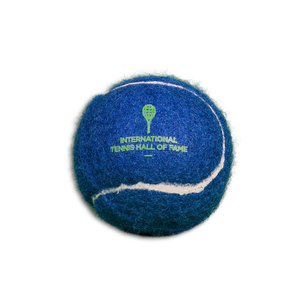blue ball: (70, 73, 237, 238)
